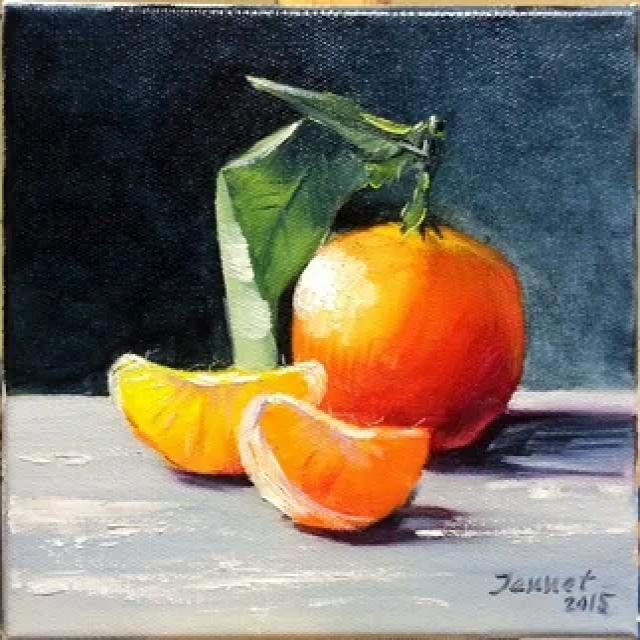orange: (287, 218, 536, 452)
